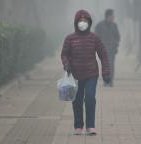person: (57, 9, 113, 136), (94, 8, 125, 88)
